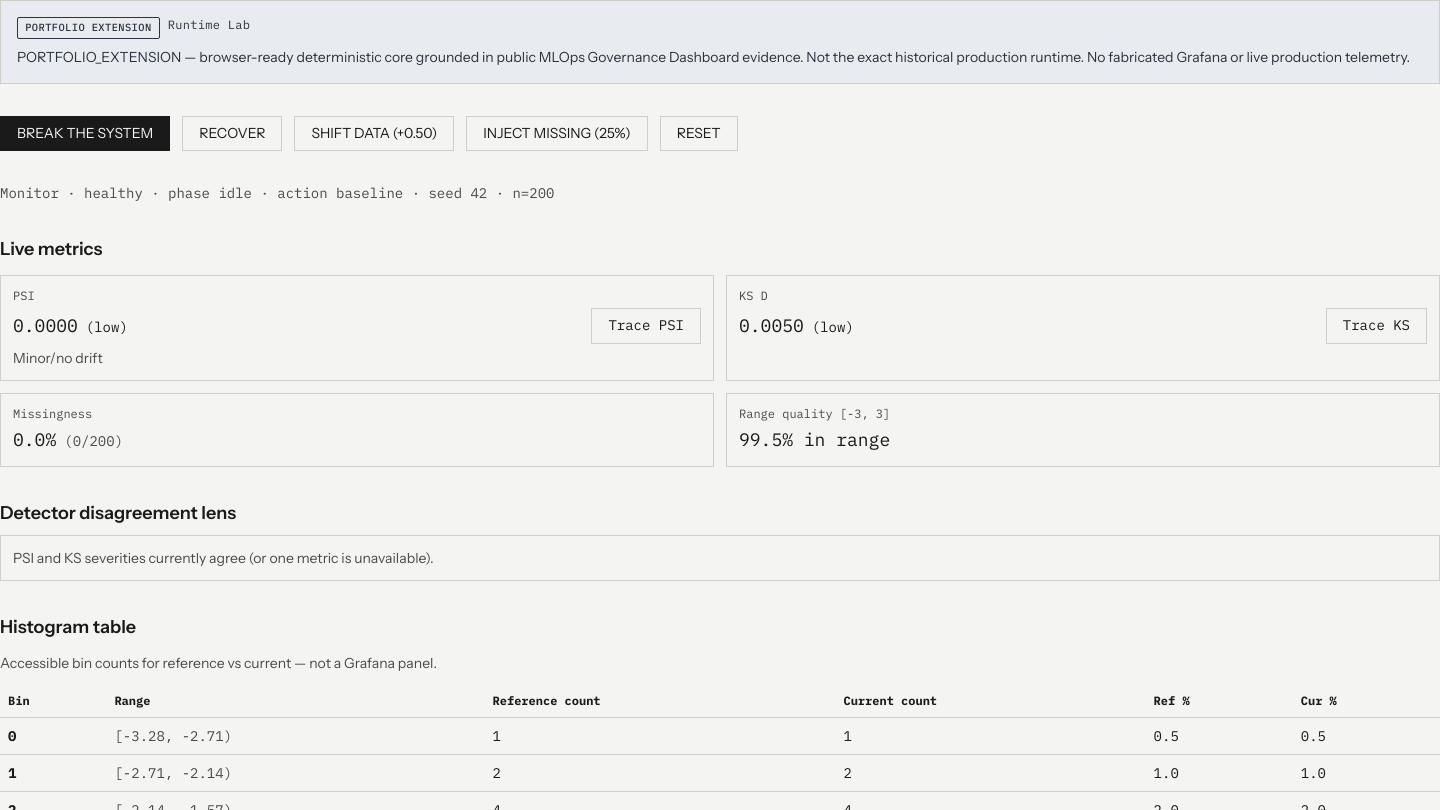
Test: MlopsLab (M6+M7) › opens Source Trace drawer for PSI with SHA fingerprint
Expected: the button "Trace KS" is shown, [1326,308,1427,344]
Click the button "Trace PSI" at coordinates (646, 326), box [591,308,701,344]
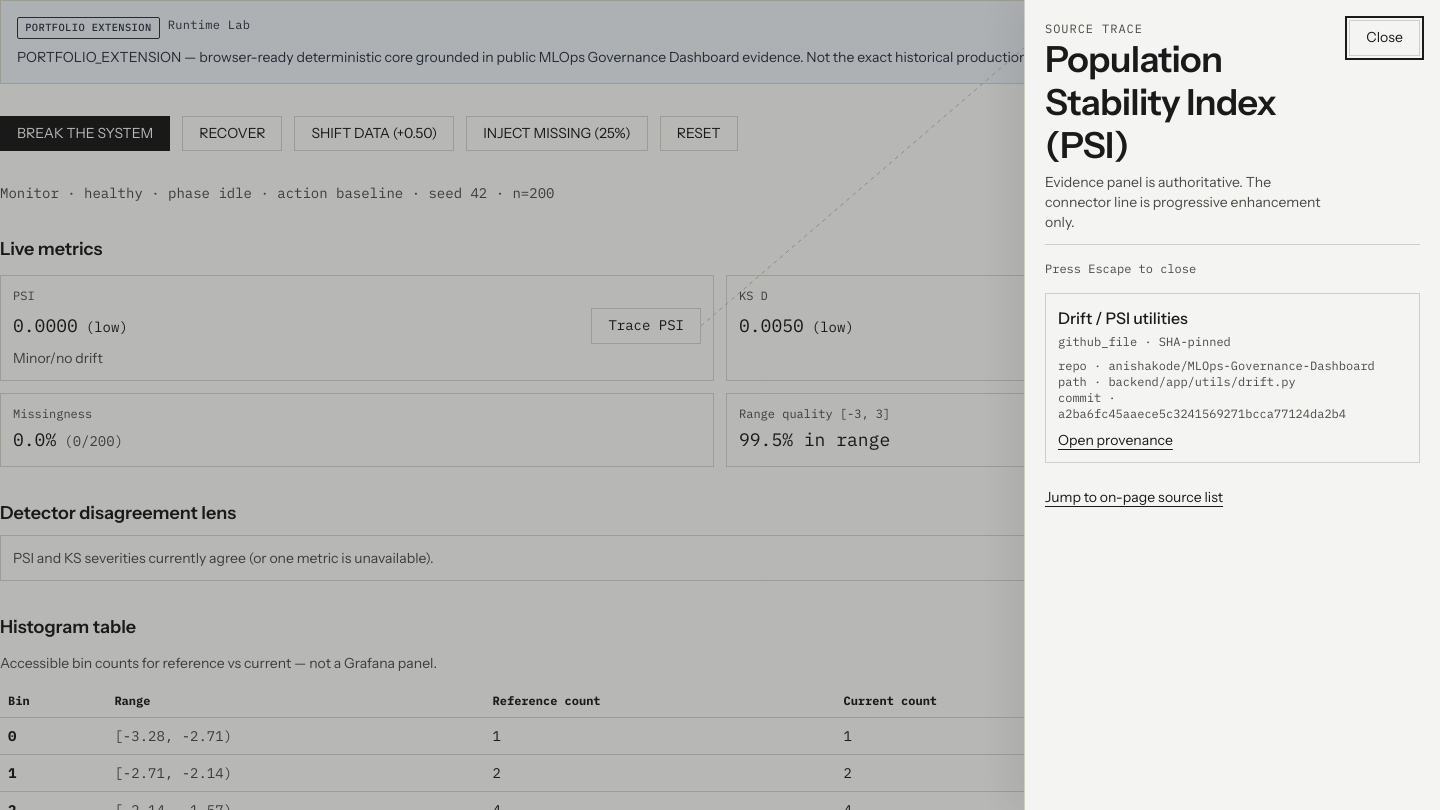
Expected: the dialog is shown, [1024,0,1439,809]
Expected: the text "path · backend/app/utils/drift.py" is shown, [1058,374,1296,389]
Expected: the text "commit · a2ba6fc45aaece5c3241569271bcca77124da2b4" is shown, [1058,390,1346,421]
